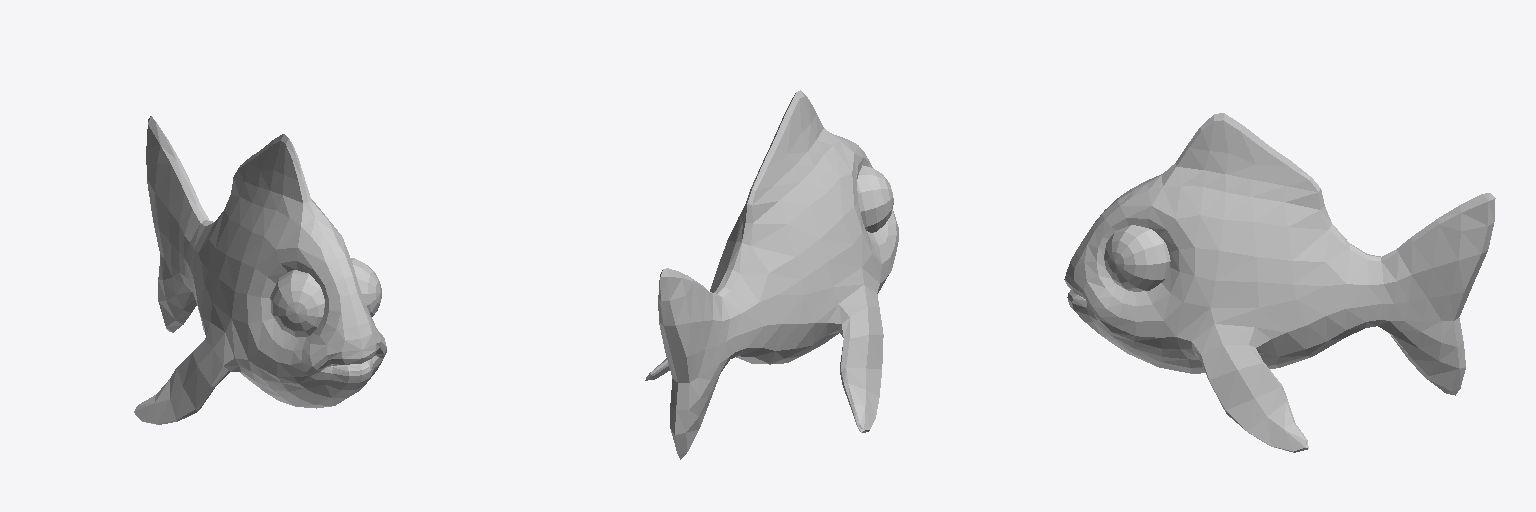
Rendered from Fish3.obj.
The picture shows the model from 3 angles: view 1: azimuth 30°, elevation 25°; view 2: azimuth 150°, elevation 25°; view 3: azimuth 270°, elevation 25°; orthographic projection.
Parts seen in each view (by area): view 1: Object0012; view 2: Object0012; view 3: Object0012.
Boxes of the visible parts, box(x1,y1,x2,y2) form: Object0012: box(134, 116, 386, 424); Object0012: box(645, 90, 898, 459); Object0012: box(1064, 113, 1495, 452).
Size of the model in its own units: 8.36 by 10.58 by 14.31.